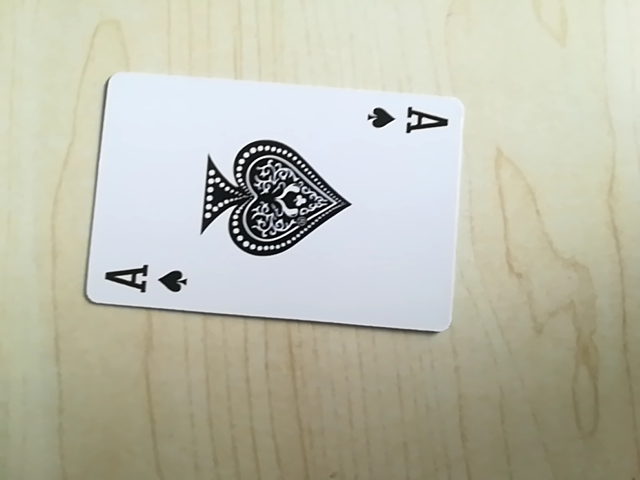ht a: (98, 258, 195, 300), (361, 100, 451, 142)
